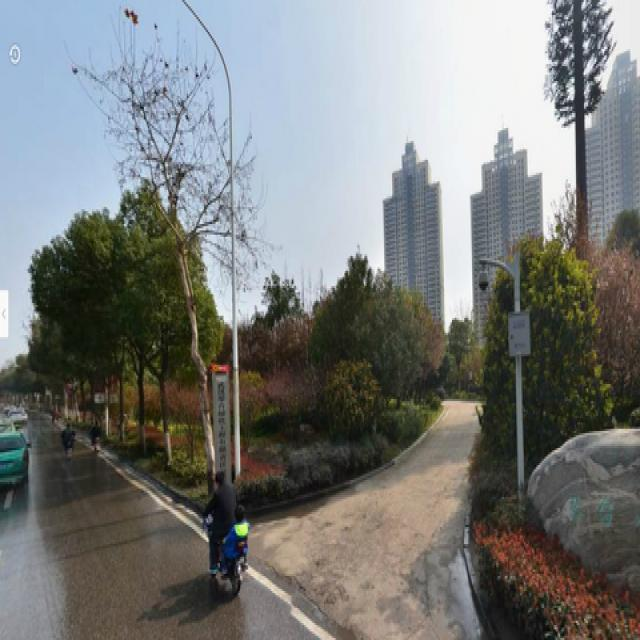cinn: (130, 222, 190, 465)
